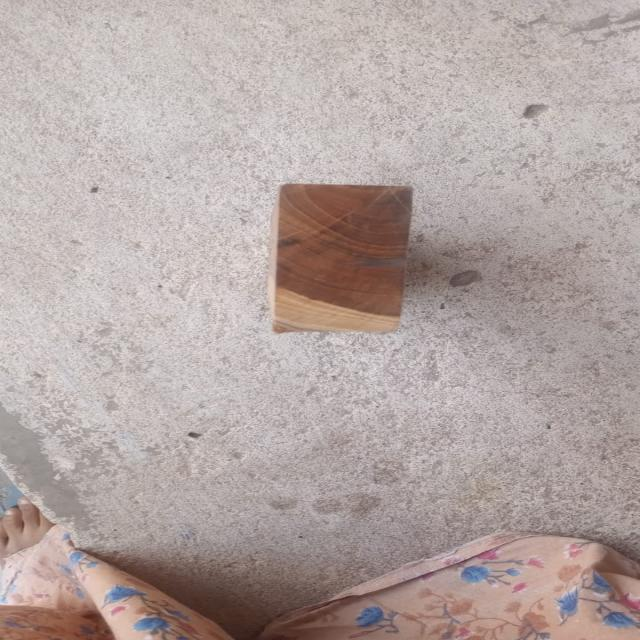litter: (232, 157, 452, 362)
